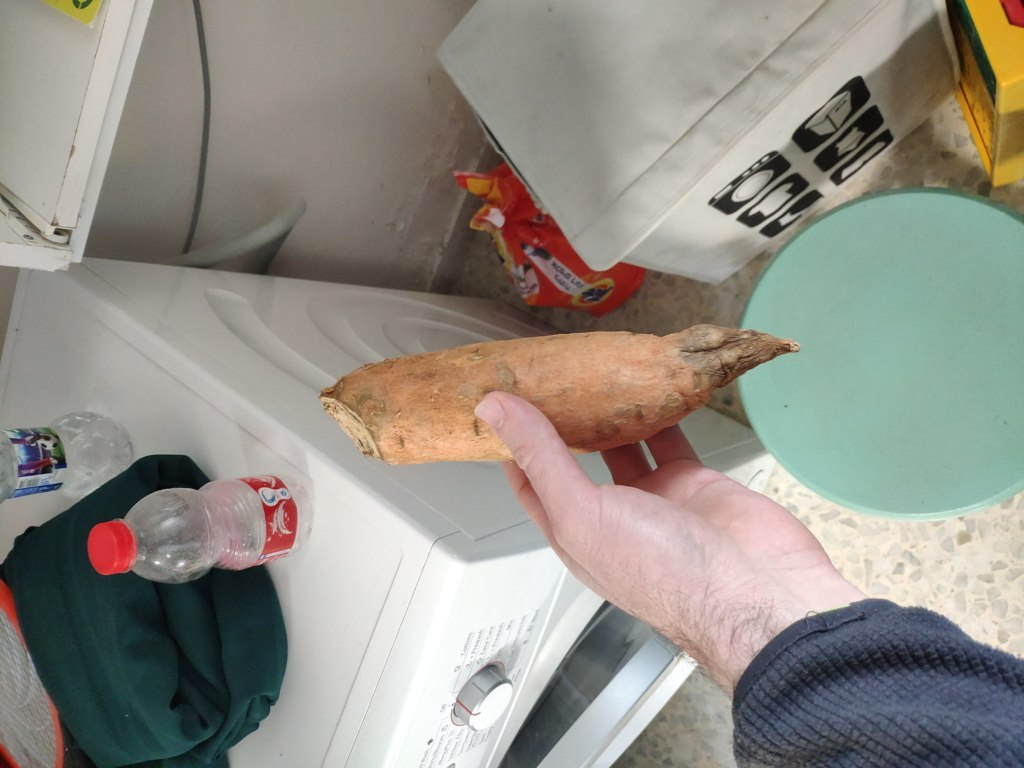Sweet Potato: (303, 315, 819, 440)
